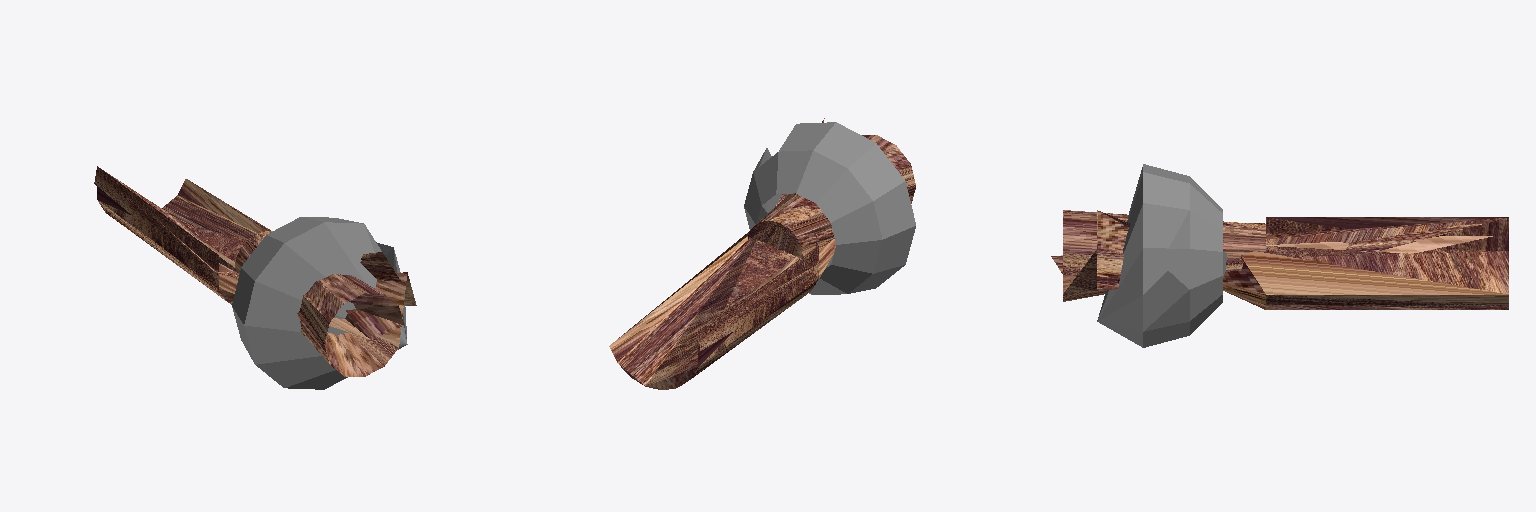
The picture shows the model from 3 angles: view 1: azimuth 30°, elevation 25°; view 2: azimuth 150°, elevation 25°; view 3: azimuth 270°, elevation 25°; orthographic projection.
Parts seen in each view (by area): view 1: body, Sphere001; view 2: body, Sphere001; view 3: body, Sphere001.
Boxes of the visible parts, x1,y1,x2,y2 form: body: [94, 166, 416, 376]; Sphere001: [232, 217, 407, 389]; body: [609, 118, 915, 389]; Sphere001: [744, 122, 915, 294]; body: [1051, 210, 1508, 309]; Sphere001: [1097, 164, 1226, 347].
Bounding box in the file's own units: 2.81 × 2.81 × 6.97.
2 materials, 1 textured.